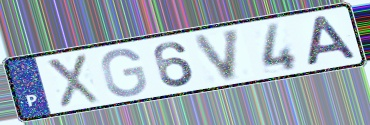4: (259, 22, 299, 73)
6: (152, 40, 196, 88)
A: (303, 13, 361, 68)
G: (99, 47, 150, 99)
V: (191, 25, 244, 83)
X: (43, 52, 103, 109)
